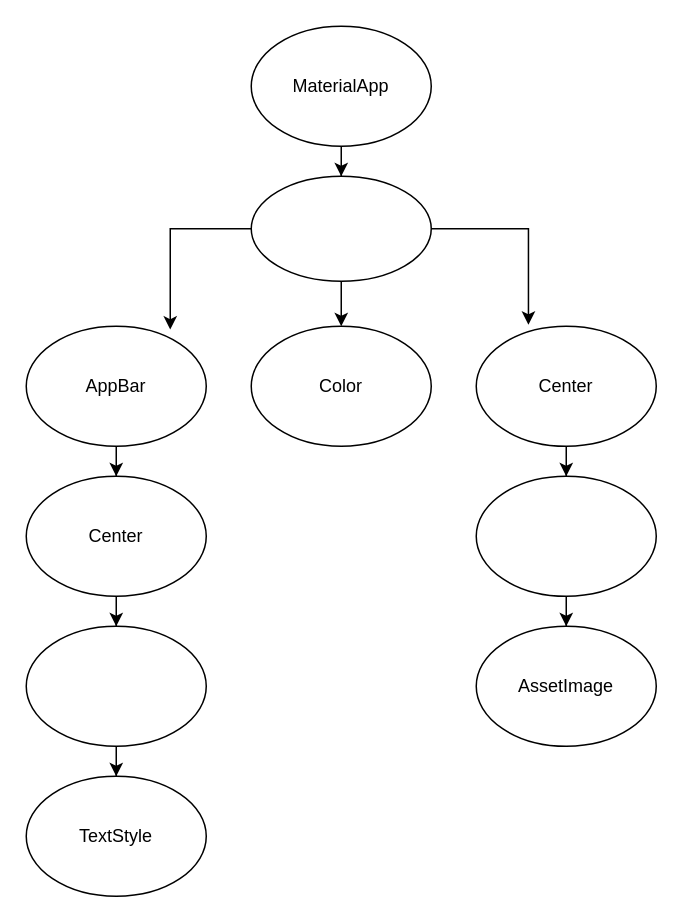
Some shapes in this 683 by 923 pixel diagram are drawn without their labels. The centre of each missing label's shape, as x and y in pixels:
"Image" goes at (565,535).
"Scaffold" goes at (340,228).
"Text" goes at (115,685).
